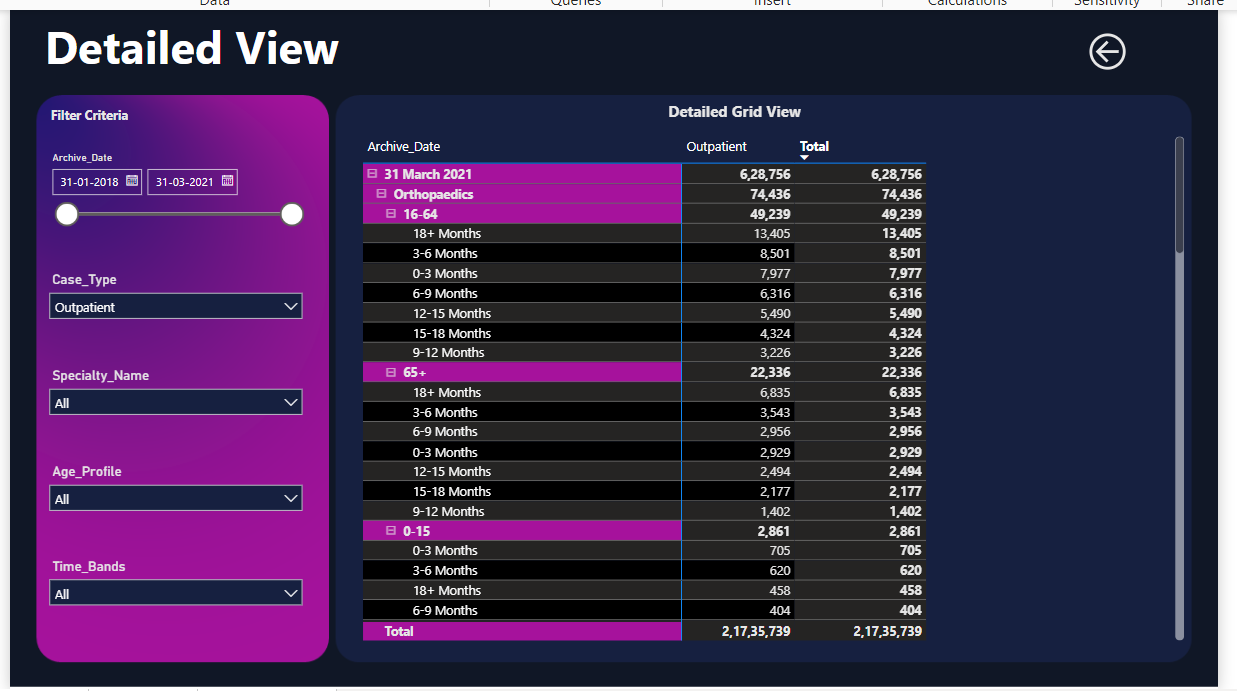

This screenshot's page, from the dashboard's own definition file:
{"tool":"powerbi","page":{"name":"Detail","canvas":[1280,720],"ordinal":1},"visuals":[{"type":"slicer","fields":{"Values":["All_Data.Archive_Date"]},"box":[32,144,288,112],"z":0},{"type":"slicer","fields":{"Values":["All_Data.Case_Type"]},"box":[32,272,288,80],"z":1000},{"type":"slicer","fields":{"Values":["All_Data.Specialty_Name"]},"box":[32,373.3,288,80],"z":2000},{"type":"slicer","fields":{"Values":["All_Data.Age_Profile"]},"box":[32,474.7,288,80],"z":3000},{"type":"slicer","fields":{"Values":["All_Data.Time_Bands"]},"box":[32,576,288,80],"z":4000},{"type":"pivotTable","fields":{"Rows":["All_Data.Archive_Date","All_Data.Specialty_Name","All_Data.Age_Profile","All_Data.Time_Bands"],"Columns":["All_Data.Case_Type"],"Values":["Sum(All_Data.Total)"]},"box":[368,128,880,544],"z":5000},{"type":"textbox","box":[32,0,400,80],"z":6000},{"type":"textbox","box":[38.2,96.4,318.2,40],"z":7000},{"type":"textbox","box":[609.1,90.9,318.2,40],"z":8000},{"type":"actionButton","box":[1137.8,19.7,110.4,49.9],"z":9000}]}

Visuals, with their boxes on the page's 1280x720 design canvas (x1, y1, x2, y2). These are canvas units, not pixel positions in the 1237x691 screenshot, which may show the page scaled, cropped or inside an application window:
slicer - All_Data.Archive_Date: BBox(32, 144, 320, 256)
slicer - All_Data.Case_Type: BBox(32, 272, 320, 352)
slicer - All_Data.Specialty_Name: BBox(32, 373, 320, 453)
slicer - All_Data.Age_Profile: BBox(32, 475, 320, 555)
slicer - All_Data.Time_Bands: BBox(32, 576, 320, 656)
pivotTable - All_Data.Archive_Date x All_Data.Specialty_Name: BBox(368, 128, 1248, 672)
textbox: BBox(32, 0, 432, 80)
textbox: BBox(38, 96, 356, 136)
textbox: BBox(609, 91, 927, 131)
actionButton: BBox(1138, 20, 1248, 70)
